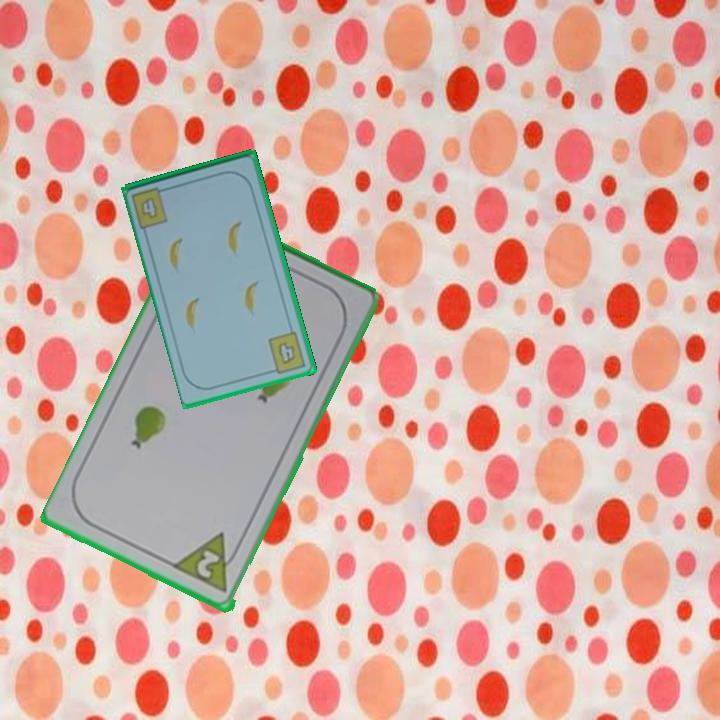2p: (193, 546, 223, 582)
4b: (265, 328, 309, 376), (128, 183, 172, 231)
